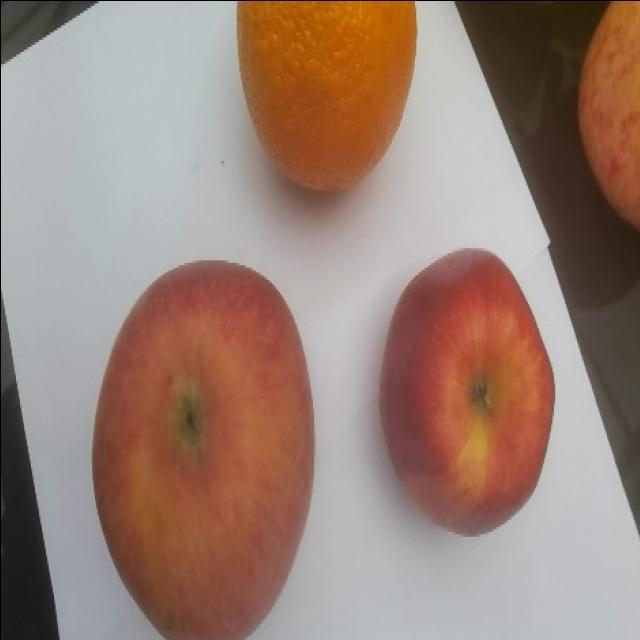Apple: (91, 259, 315, 639), (377, 247, 555, 536), (576, 0, 639, 230)
Orange: (235, 0, 418, 193)
